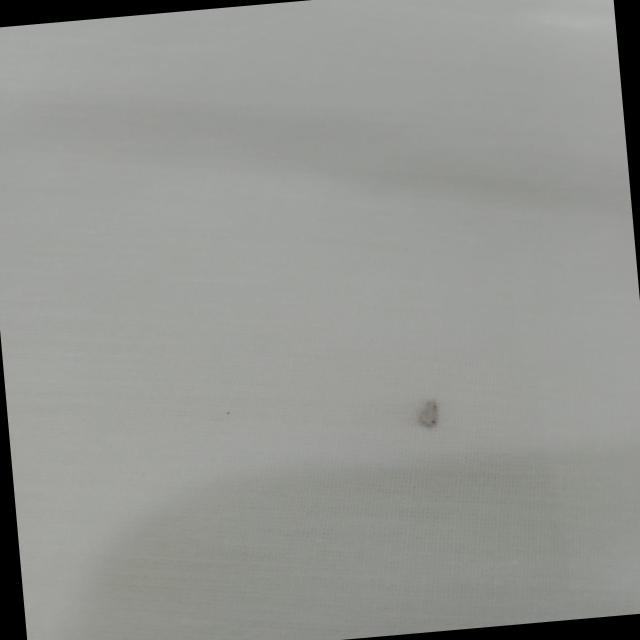stain: (394, 384, 460, 441)
